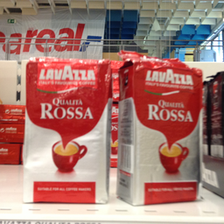coffee: (118, 59, 203, 207), (24, 59, 111, 202)
